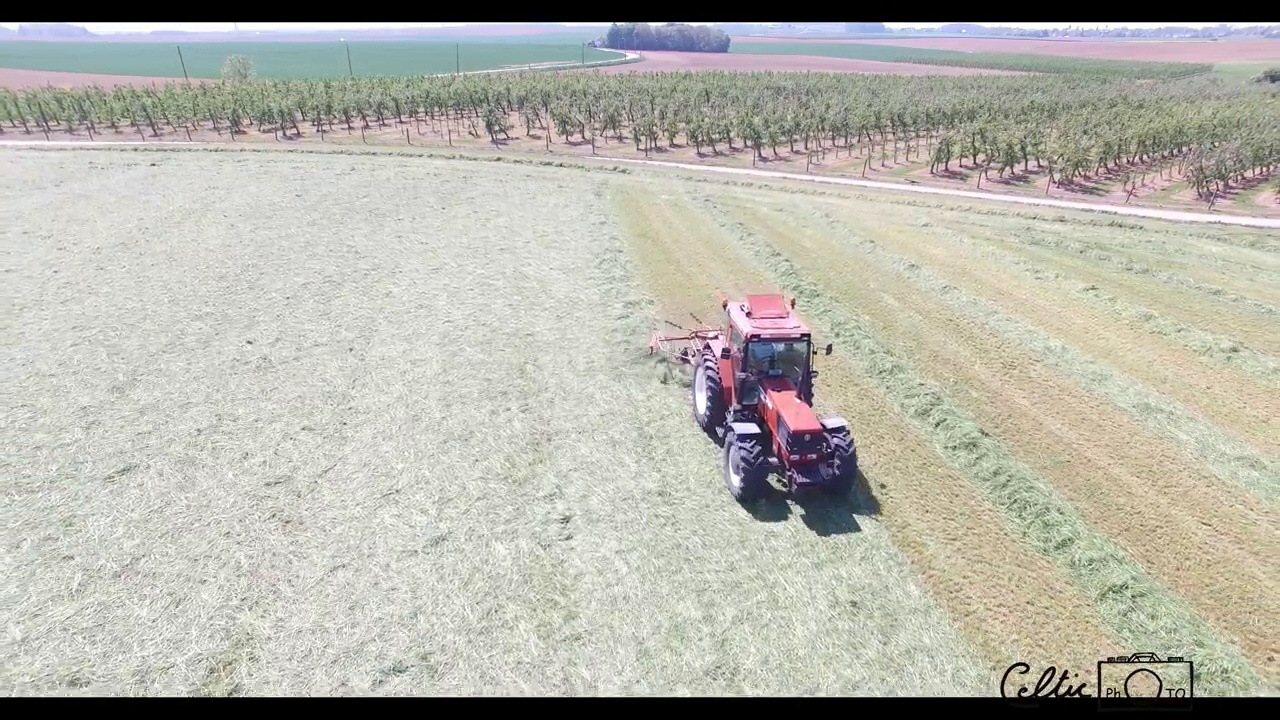traktor: (682, 292, 864, 505)
